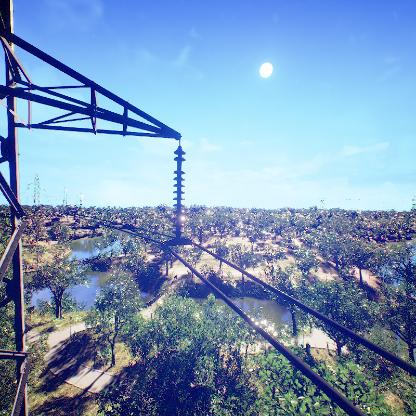insulator: (170, 145, 188, 239)
